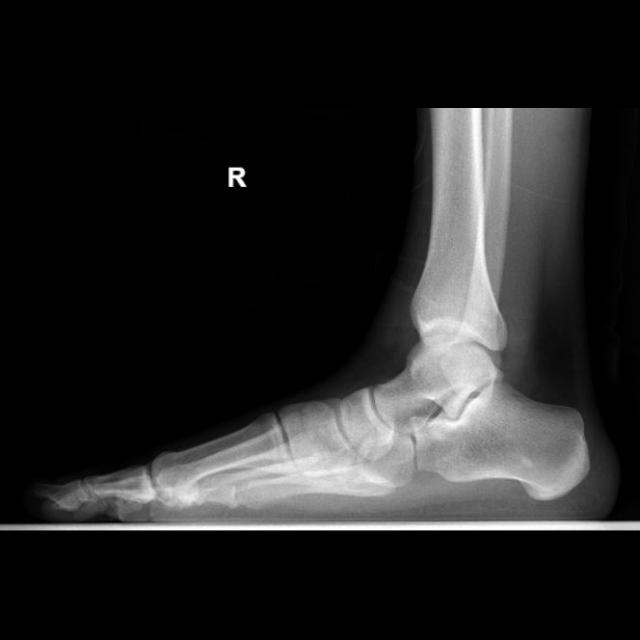a: (412, 380, 588, 498)
b: (339, 387, 395, 461)
c: (151, 412, 301, 497)
